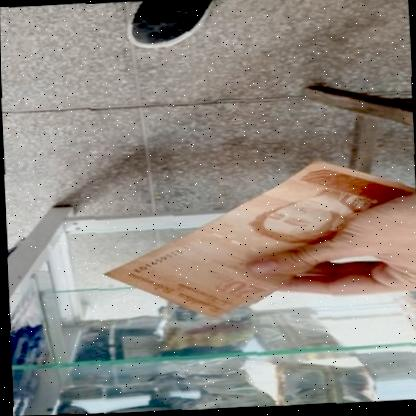twenty-front-vef: (95, 156, 416, 326)
